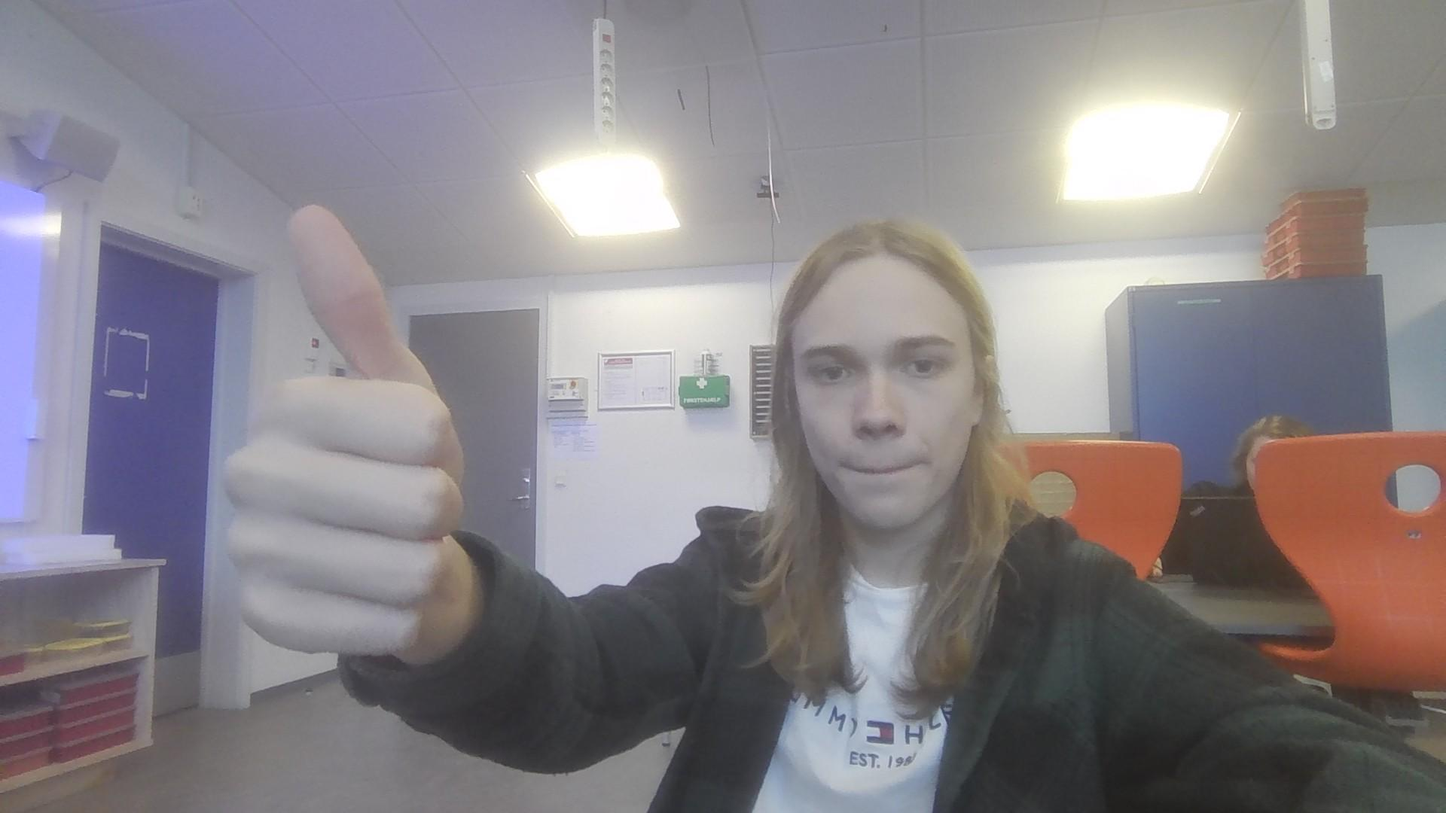thumbs up: (217, 166, 473, 670)
